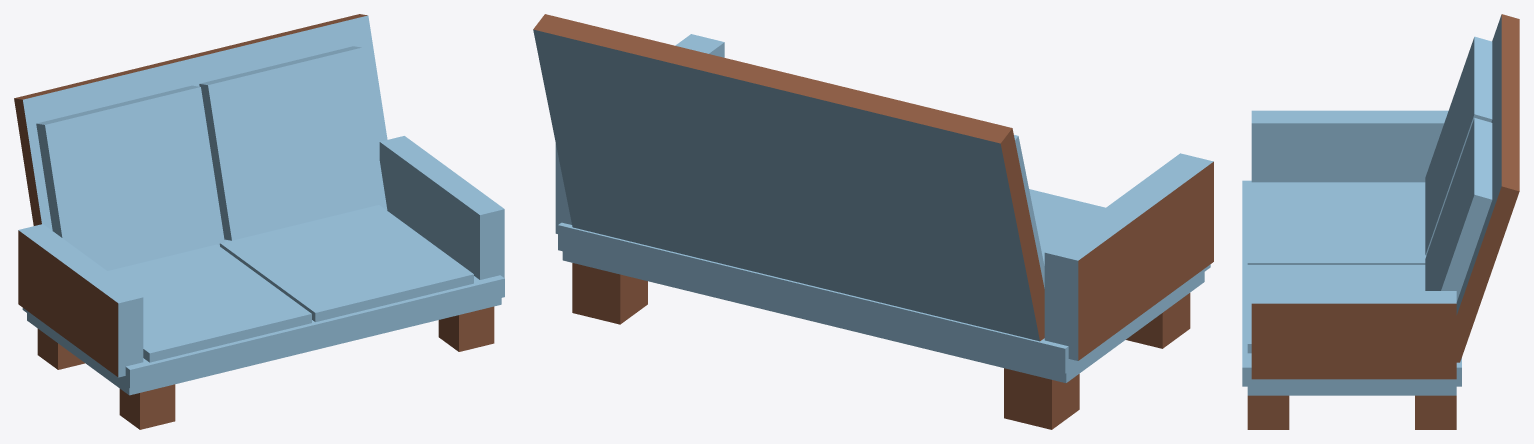
File: Sofa.fbx
3 views of the same model, side by side, from view 1: azimuth 30°, elevation 25°; view 2: azimuth 150°, elevation 25°; view 3: azimuth 270°, elevation 25° (orthographic). The views are drawn at different scales.
Visible parts, largest first — view 1: cube.004; view 2: cube.004; view 3: cube.004.
Part boxes in pixels (x1,y1,x2,y2): cube.004: (14, 14, 504, 429); cube.004: (533, 14, 1213, 429); cube.004: (1242, 14, 1519, 429).
Bounding box in the file's own units: 136 × 80.05 × 82.86.
